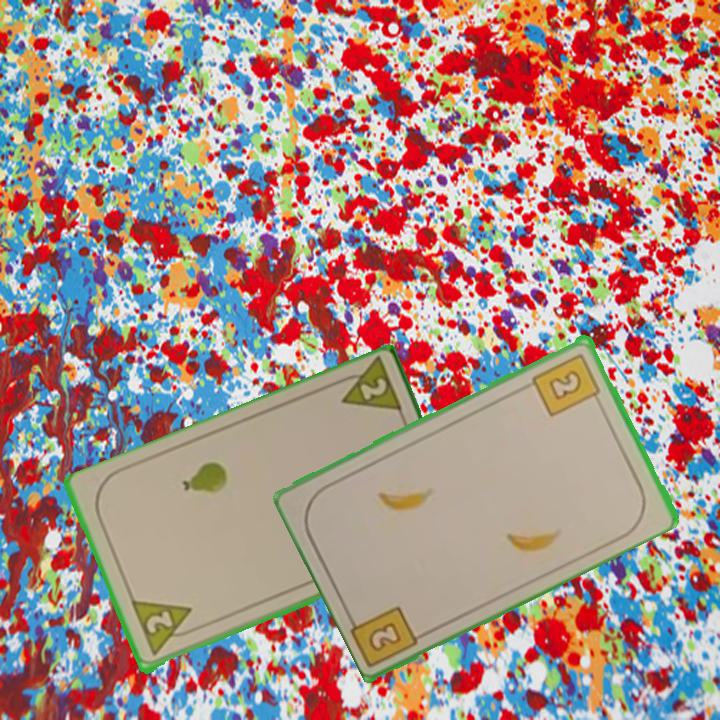2b: (529, 349, 605, 419), (364, 617, 405, 654)
2p: (329, 356, 406, 419), (128, 597, 202, 659)
